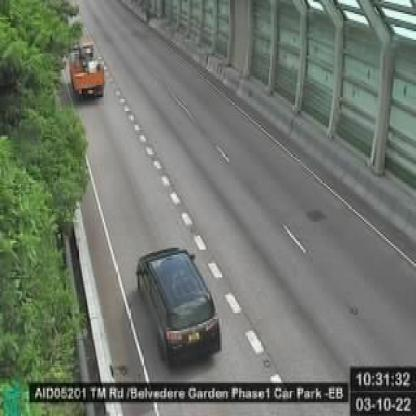Car: (137, 248, 221, 364)
Truck: (68, 40, 107, 100)
